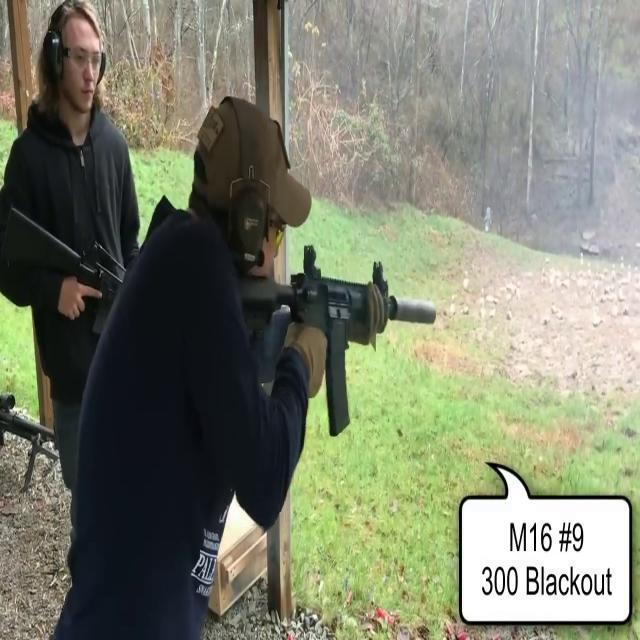Rifle: (236, 246, 442, 452)
